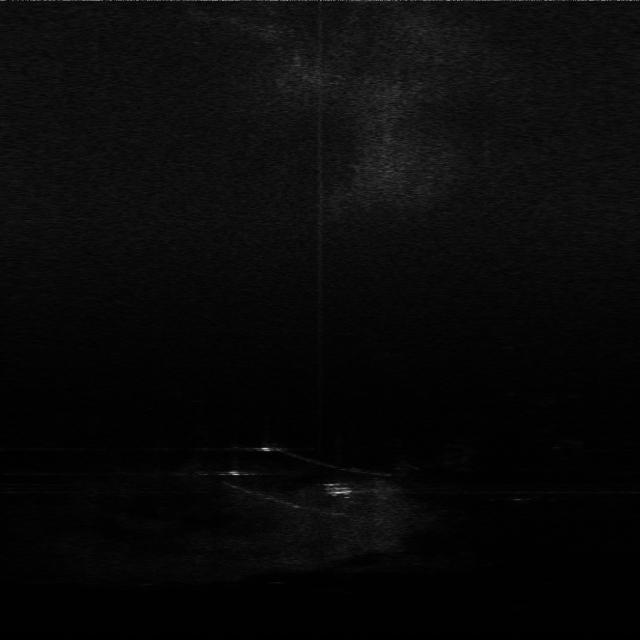rov: (322, 481, 357, 498)
